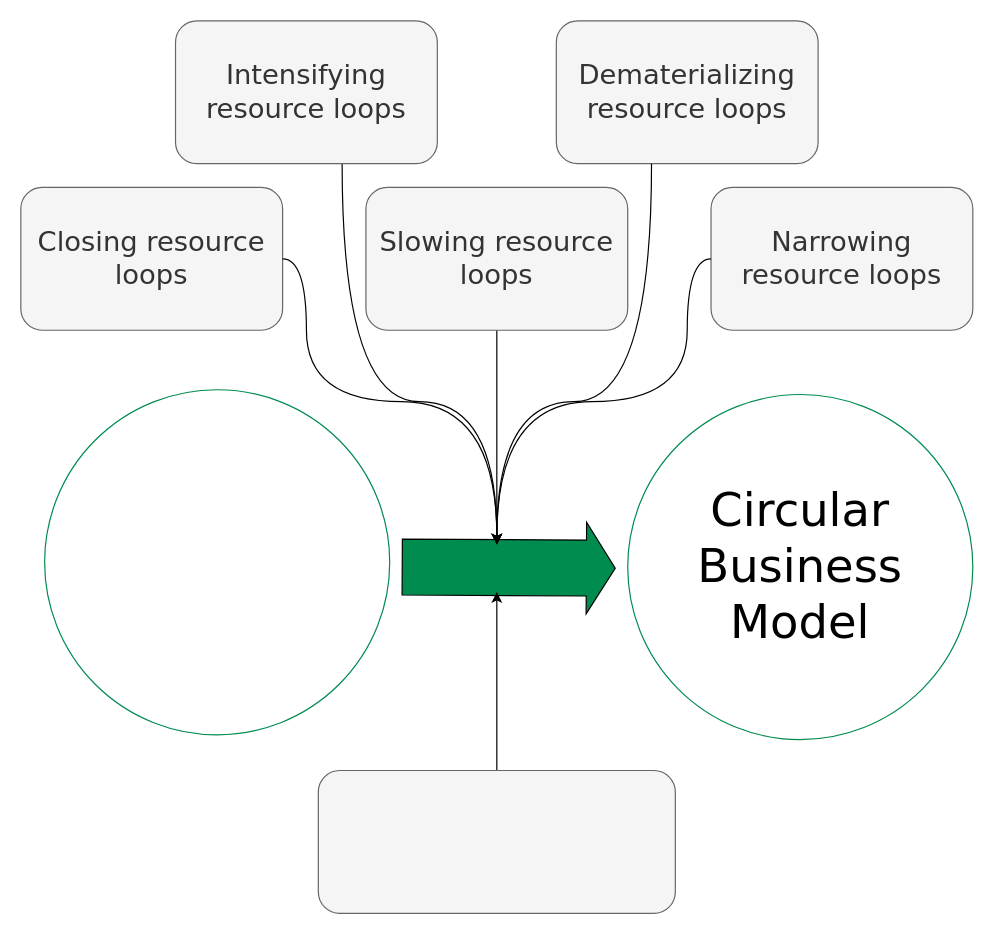
Image size: 994x934. Some labels were removed from this diagram. The shapes that lost their labels are listed below. From the top down, each one's box as (x1, y1, x2, y2) in pixels, then its label:
(43, 389, 390, 735): Business Model
(317, 769, 675, 913): Solutions for the Circular Economy
